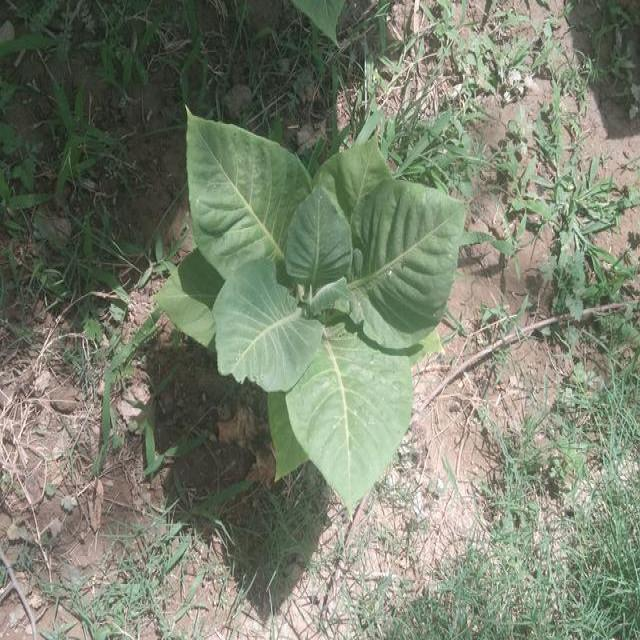crop: (149, 81, 475, 514)
